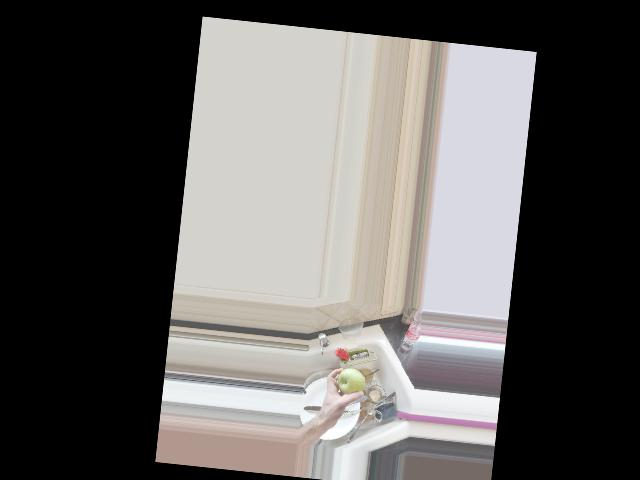apple: (333, 366, 367, 399)
